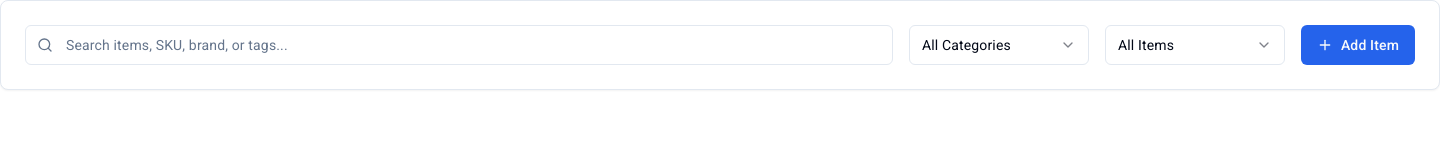
Test: LendingFilters › displays all available categories
Step 1. Click the dropdown labelled "All Categories" → (999, 45), box x1=909 y1=25 x2=1089 y2=65
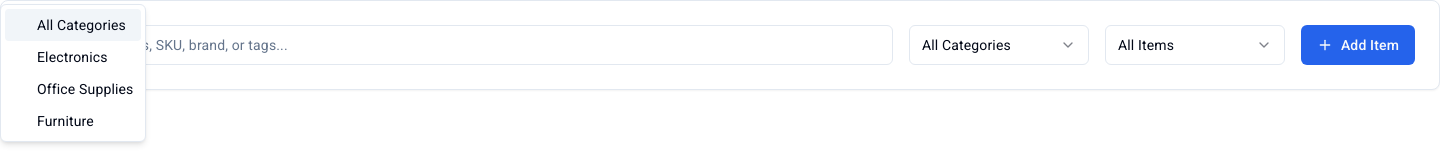
expect the option "All Categories" is shown: met, box x1=5 y1=9 x2=142 y2=41
expect the option "Electronics" is shown: met, box x1=37 y1=49 x2=108 y2=65
expect the option "Office Supplies" is shown: met, box x1=37 y1=81 x2=134 y2=97
